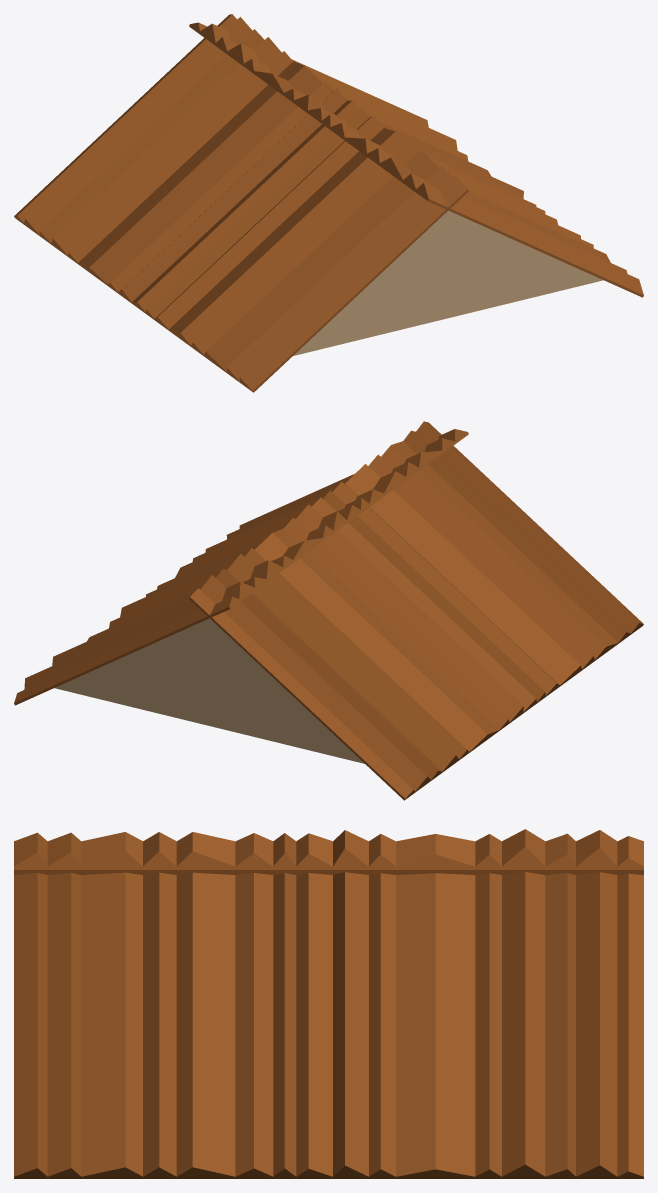
Rendered from Building_Modular_Jetty_Walkway_Timber_Hut_Roof_02.fbx.
3 views of the same model, one above another, from view 1: azimuth 30°, elevation 25°; view 2: azimuth 150°, elevation 25°; view 3: azimuth 270°, elevation 25° (orthographic). The views are drawn at different scales.
Visible parts, largest first — view 1: Building_Modular_Jetty_Walkway_Timber_Hut_Roof_02; view 2: Building_Modular_Jetty_Walkway_Timber_Hut_Roof_02; view 3: Building_Modular_Jetty_Walkway_Timber_Hut_Roof_02.
Part boxes in pixels (bbox=[...]): Building_Modular_Jetty_Walkway_Timber_Hut_Roof_02: bbox=[14, 14, 643, 392]; Building_Modular_Jetty_Walkway_Timber_Hut_Roof_02: bbox=[14, 421, 643, 800]; Building_Modular_Jetty_Walkway_Timber_Hut_Roof_02: bbox=[14, 829, 643, 1178].
Bounding box in the file's own units: 237 × 91.68 × 243.
